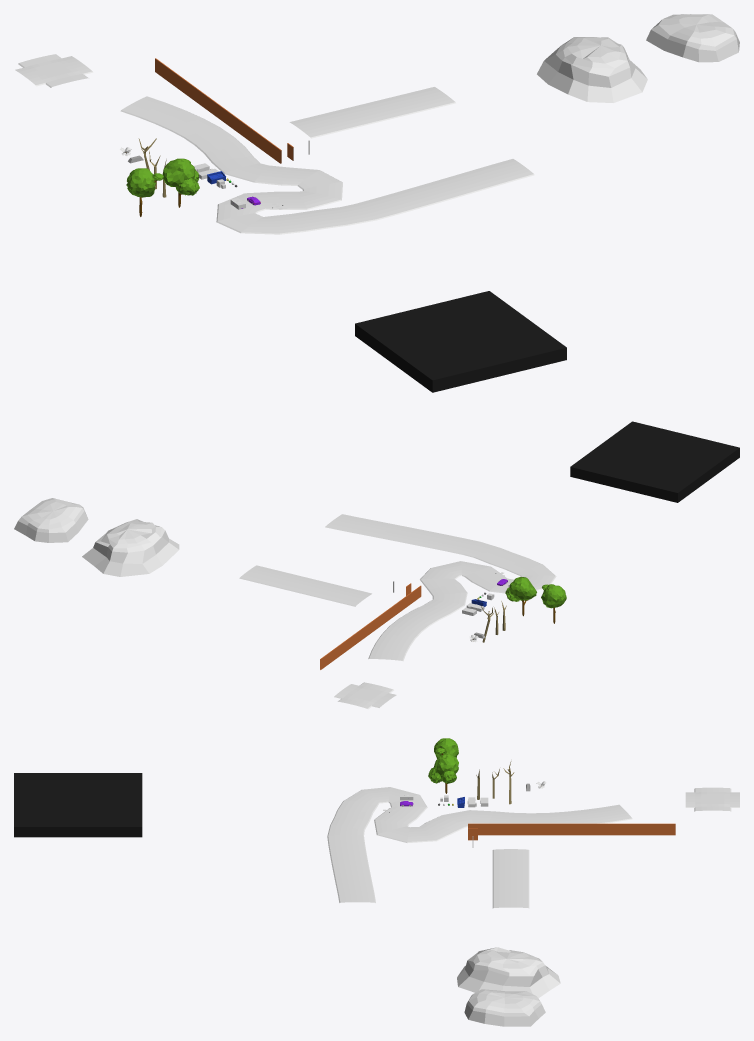
The model's file is assets_event1_char1.fbx.
3 views of the same model, one above another, from view 1: azimuth 30°, elevation 25°; view 2: azimuth 150°, elevation 25°; view 3: azimuth 270°, elevation 25° (orthographic). The views are drawn at different scales.
Visible parts, largest first — view 1: track_curves, monte_sucata1, monte_lixo2, monte_lixo1.024, track_line, wall_bricks1_lateral, track_conection, tree_manga2, tree_manga1; view 2: track_curves, monte_sucata1, monte_lixo2, monte_lixo1.024, track_line, wall_bricks1_lateral, track_conection, tree_manga2, tree_manga1; view 3: track_curves, monte_sucata1, monte_lixo2, wall_bricks1_lateral, monte_lixo1.024, track_line, track_conection, tree_manga2.
Boxes of the visible parts, box(x1,y1,x2,y2) form: track_curves: box(120, 96, 534, 234); monte_sucata1: box(355, 291, 566, 392); monte_lixo2: box(537, 37, 647, 102); monte_lixo1.024: box(646, 14, 739, 62); track_line: box(289, 87, 455, 138); wall_bricks1_lateral: box(155, 58, 281, 163); track_conection: box(15, 54, 93, 87); tree_manga2: box(162, 158, 199, 207); tree_manga1: box(126, 168, 163, 216); track_curves: box(325, 514, 556, 661); monte_sucata1: box(570, 421, 739, 502); monte_lixo2: box(82, 519, 179, 576); monte_lixo1.024: box(14, 498, 88, 542); track_line: box(239, 565, 371, 606); wall_bricks1_lateral: box(320, 585, 421, 669); track_conection: box(334, 682, 396, 709); tree_manga2: box(505, 577, 536, 616); tree_manga1: box(541, 584, 566, 623); track_curves: box(327, 787, 632, 902); monte_sucata1: box(14, 773, 142, 837); monte_lixo2: box(457, 947, 560, 998); wall_bricks1_lateral: box(468, 823, 675, 835); monte_lixo1.024: box(464, 989, 545, 1026); track_line: box(492, 849, 529, 908); track_conection: box(685, 787, 739, 811); tree_manga2: box(428, 754, 458, 793).
Bounding box in the file's own units: 24602 × 2053 × 29369.
